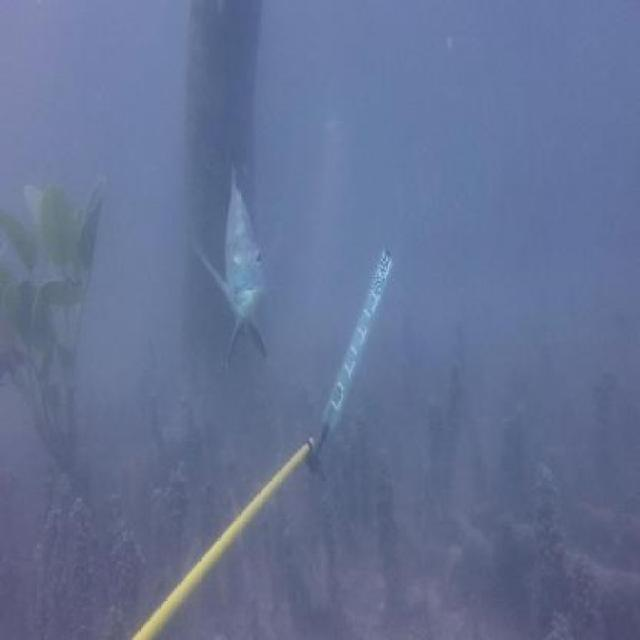acanthopagrus_palmaris: (202, 154, 286, 371)
